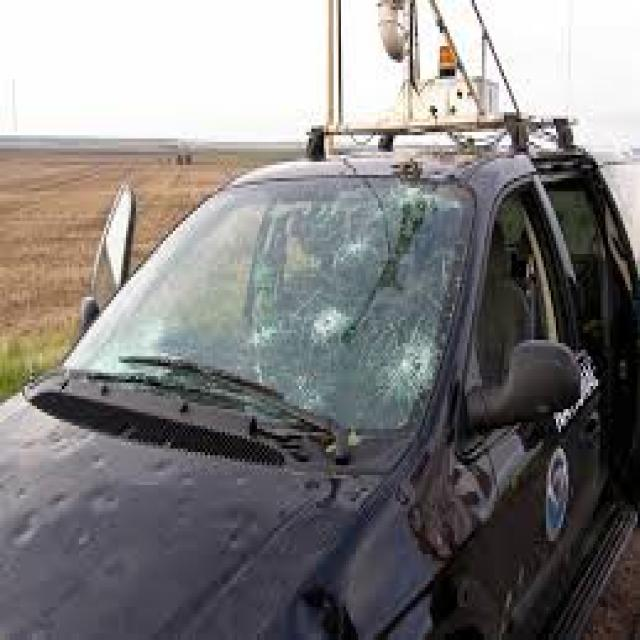minor: (208, 175, 463, 416)
